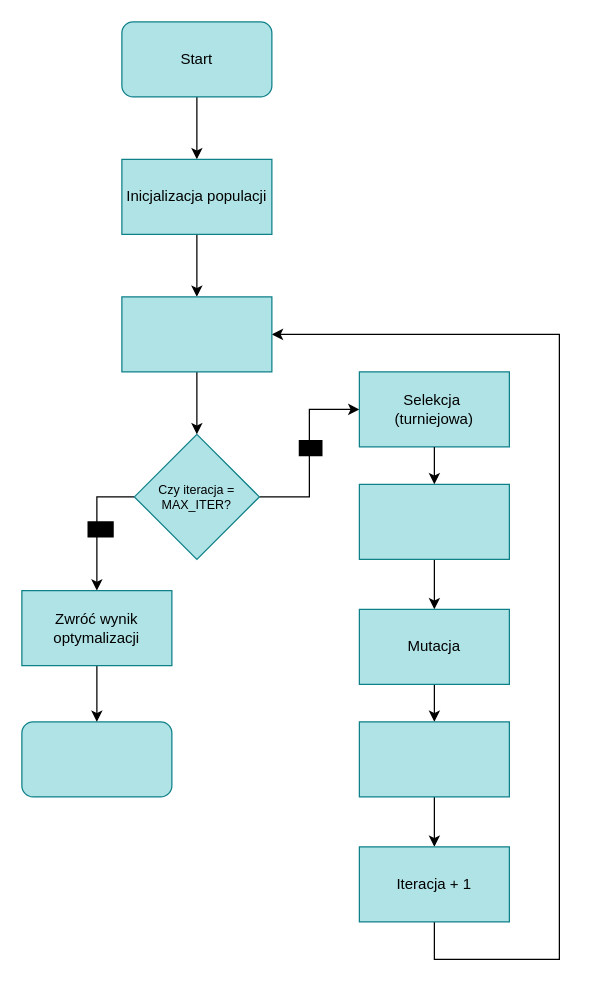
This 591x991 diagram has some shape labels left out. Here are the shapes that lost their labels. From the top down, the centre of each, then its label:
point 196,334: Ocena populacji
point 433,521: Krzyżowanie
point 96,759: Stop
point 433,759: Nowa populacja
